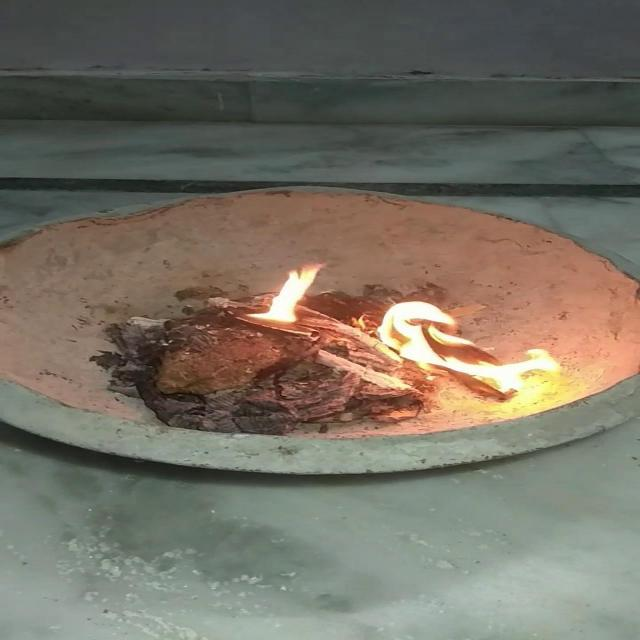fire: (372, 295, 564, 395), (241, 258, 336, 324)
